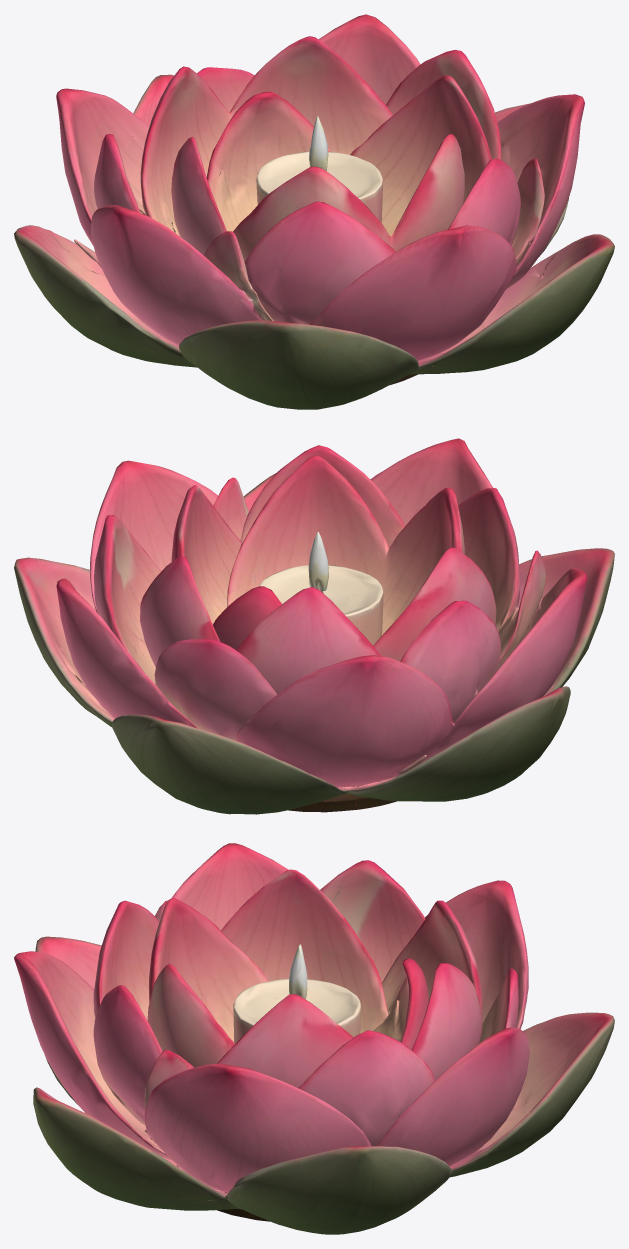
File: lotus-main.glb
3 renders of one model, top to bottom at view 1: azimuth 30°, elevation 25°; view 2: azimuth 150°, elevation 25°; view 3: azimuth 270°, elevation 25°, orthographic.
Parts seen in each view (by area): view 1: Mesh_0; view 2: Mesh_0; view 3: Mesh_0.
Boxes of the visible parts, <box> form: Mesh_0: <box>14,14,614,409</box>; Mesh_0: <box>14,438,614,814</box>; Mesh_0: <box>14,843,614,1234</box>.
Bounding box in the file's own units: 1.9 × 0.785 × 1.81.
1 material, 1 textured.
